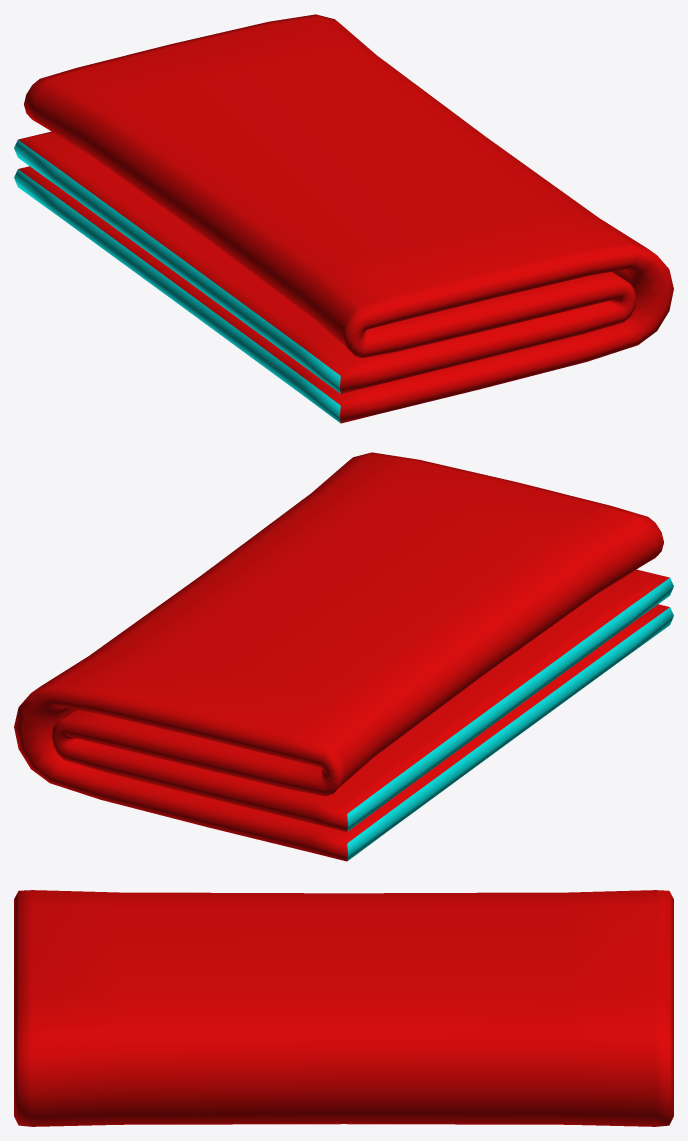
File: Towel.fbx
3 renders of one model, top to bottom at view 1: azimuth 30°, elevation 25°; view 2: azimuth 150°, elevation 25°; view 3: azimuth 270°, elevation 25°, orthographic.
Parts seen in each view (by area): view 1: Towel; view 2: Towel; view 3: Towel.
Part boxes in pixels (x1=…): Towel: x1=14, y1=14, x2=673, y2=423; Towel: x1=14, y1=452, x2=673, y2=861; Towel: x1=14, y1=890, x2=673, y2=1126.
Bounding box in the file's own units: 45.47 × 14.67 × 76.52.
